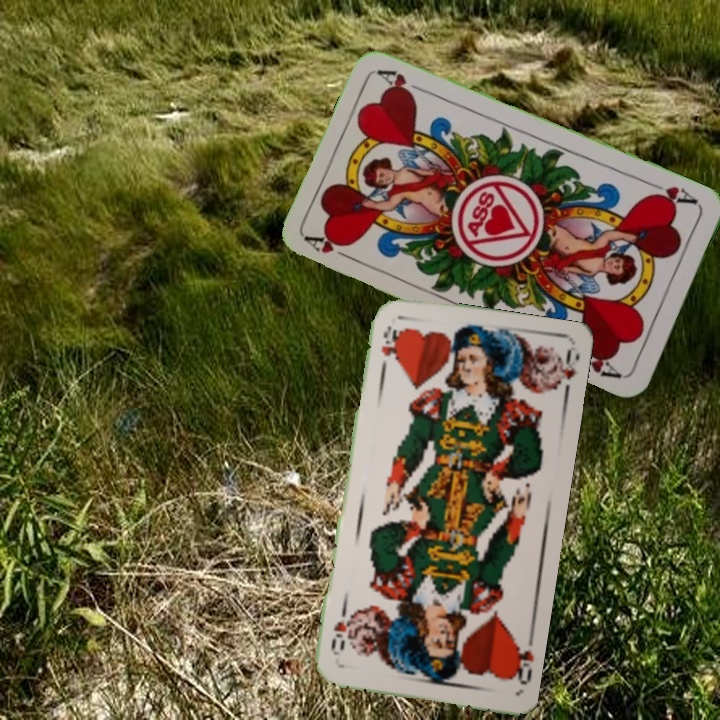HA: (302, 228, 359, 264), (644, 177, 701, 210)
HO: (505, 633, 536, 688), (377, 321, 399, 377)
